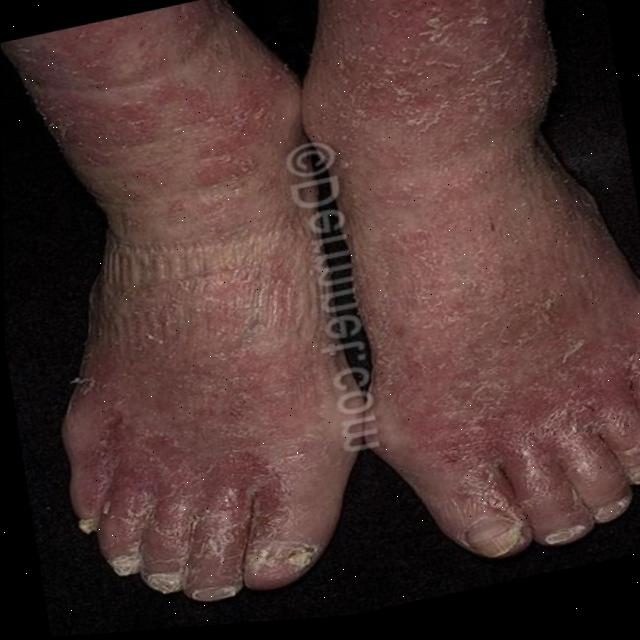Eczema: (22, 0, 640, 621)
